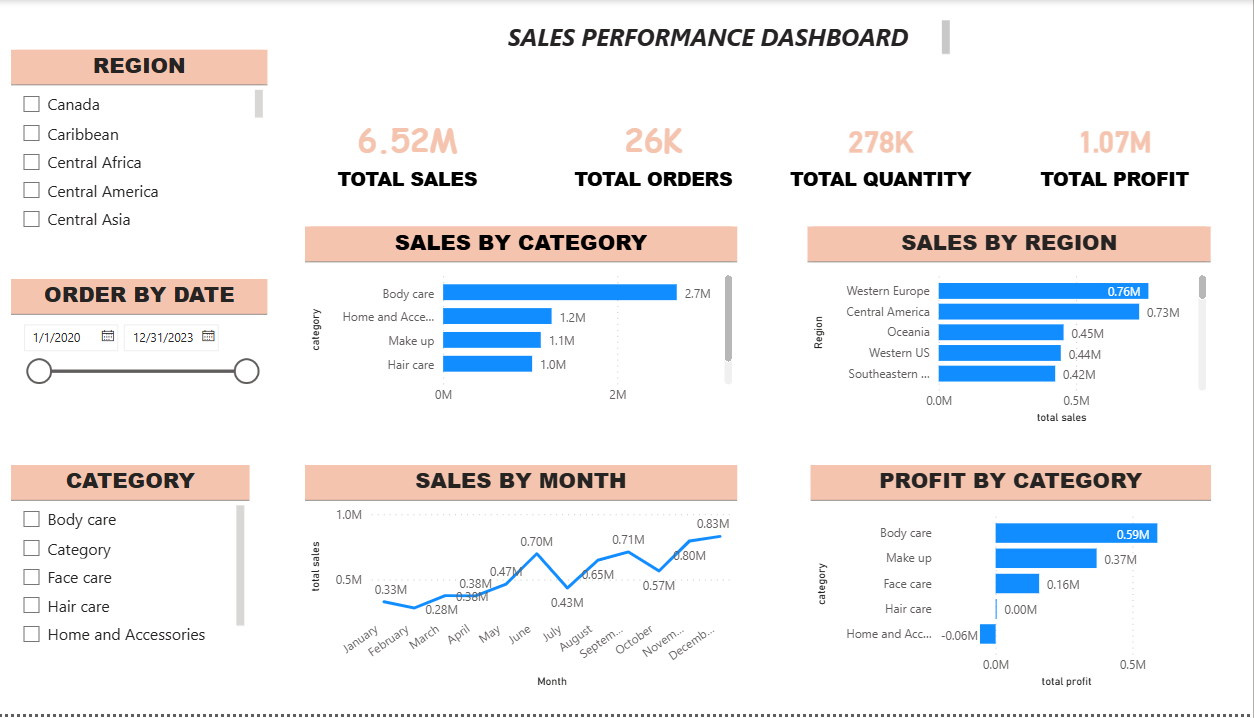

What the dashboard file says about the page in this screenshot:
{"tool":"powerbi","page":{"name":"Page 1","canvas":[1280,720],"ordinal":0},"visuals":[{"type":"card","fields":{"Values":["Orders.total sales"]},"box":[329.8,80.2,193.7,148.3],"z":0},{"type":"card","fields":{"Values":["Orders.total profit"]},"box":[1042.5,80.2,195.2,148.3],"z":1000},{"type":"card","fields":{"Values":["Orders.total orders"]},"box":[571.9,80.2,205.8,148.3],"z":2000},{"type":"card","fields":{"Values":["Orders.total quantity"]},"box":[803.4,80.2,201.2,148.3],"z":3000},{"type":"textbox","box":[97,281,194,150],"z":4000},{"type":"textbox","box":[97,490.5,194,150],"z":5000},{"type":"textbox","box":[523.5,15.1,455.4,51.4],"z":6000},{"type":"clusteredBarChart","title":"SALES BY CATEGORY","fields":{"Category":["Products.category"],"Y":["Orders.total sales"]},"box":[323.8,228.5,435.7,187.6],"z":7000},{"type":"lineChart","title":" SALES BY MONTH","fields":{"Category":["Orders.Order Date.Variation.Date Hierarchy.Month"],"Y":["Orders.total sales"]},"box":[323.8,469,435.7,228.5],"z":8000},{"type":"clusteredBarChart","title":"SALES BY REGION","fields":{"Category":["Customers.Region"],"Y":["Orders.total sales"]},"box":[830.6,228.5,407,202.7],"z":9000},{"type":"clusteredBarChart","title":" PROFIT BY CATEGORY","fields":{"Y":["Orders.total profit"],"Category":["Products.category"]},"box":[833.7,469,404,228.5],"z":10000},{"type":"slicer","title":"REGION","fields":{"Values":["Customers.Region"]},"box":[27.2,49.9,258.7,183.1],"z":11000},{"type":"slicer","title":"ORDER BY DATE","fields":{"Values":["Orders.Order Date"]},"box":[27.2,281.4,258.7,130.1],"z":12000},{"type":"slicer","title":"CATEGORY","fields":{"Values":["Products.category"]},"box":[27.2,469,240.6,190.6],"z":13000}]}

Visuals, with their boxes in screenshot pixels (x1, y1, x2, y2), scaled from the page's 1280x720 canvas onto the 1254x718 screenshot:
card - Orders.total sales: Rect(323, 80, 513, 228)
card - Orders.total profit: Rect(1021, 80, 1213, 228)
card - Orders.total orders: Rect(560, 80, 762, 228)
card - Orders.total quantity: Rect(787, 80, 984, 228)
textbox: Rect(95, 280, 285, 430)
textbox: Rect(95, 489, 285, 639)
textbox: Rect(513, 15, 959, 66)
"SALES BY CATEGORY" clusteredBarChart: Rect(317, 228, 744, 415)
" SALES BY MONTH" lineChart: Rect(317, 468, 744, 696)
"SALES BY REGION" clusteredBarChart: Rect(814, 228, 1212, 430)
" PROFIT BY CATEGORY" clusteredBarChart: Rect(817, 468, 1213, 696)
"REGION" slicer: Rect(27, 50, 280, 232)
"ORDER BY DATE" slicer: Rect(27, 281, 280, 410)
"CATEGORY" slicer: Rect(27, 468, 262, 658)
